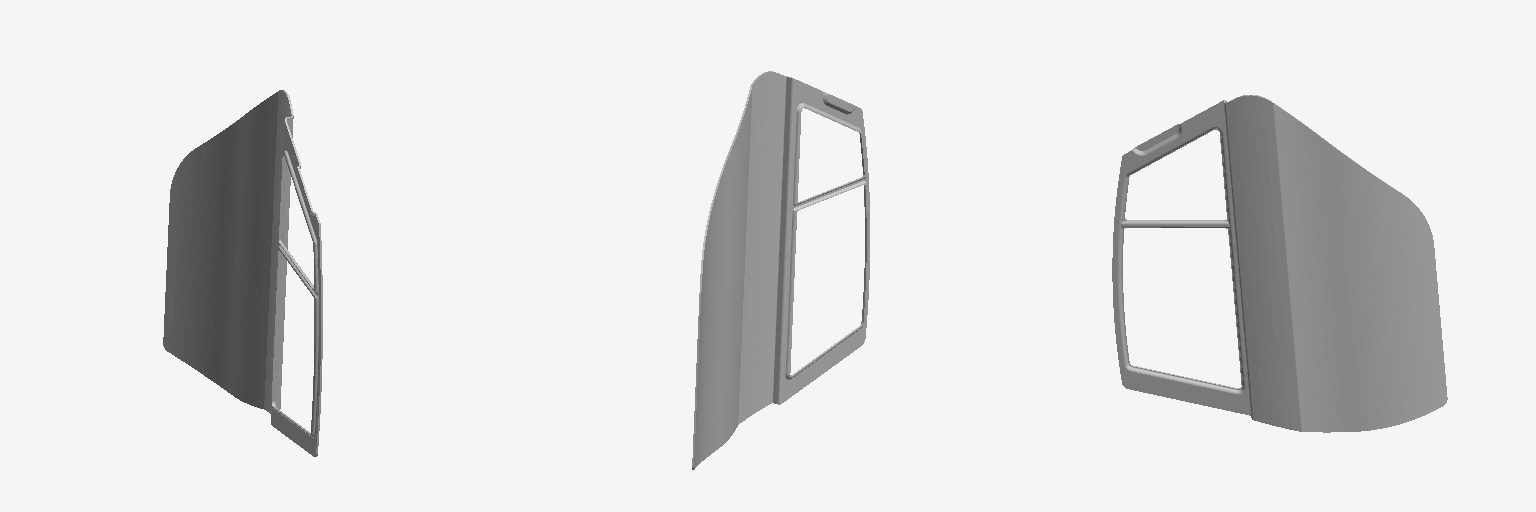
File: carDoor.obj
3 views of the same model, side by side, from view 1: azimuth 30°, elevation 25°; view 2: azimuth 150°, elevation 25°; view 3: azimuth 270°, elevation 25° (orthographic).
Size of the model in its own units: 65.09 by 509 by 457.